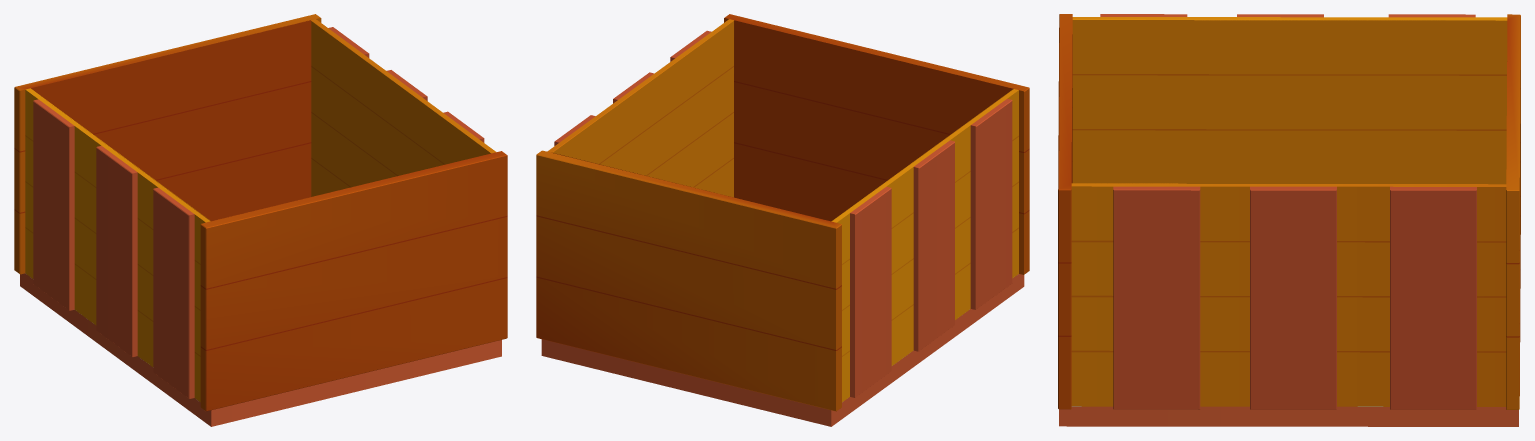
The model's file is Small Wide Crate wo_Lid#2.fbx.
The picture shows the model from 3 angles, left to right: view 1: azimuth 30°, elevation 25°; view 2: azimuth 150°, elevation 25°; view 3: azimuth 270°, elevation 25°; orthographic projection. The views are drawn at different scales.
Visible parts, largest first — view 1: Small Wide Colored Crate #2; view 2: Small Wide Colored Crate #2; view 3: Small Wide Colored Crate #2.
Part boxes in pixels (box(x1,y1,x2,y2)): Small Wide Colored Crate #2: box(14, 14, 507, 426); Small Wide Colored Crate #2: box(536, 14, 1029, 426); Small Wide Colored Crate #2: box(1058, 14, 1520, 426).
Size of the model in its own units: 123 by 215 by 194.
Materials: 1 (1 with a texture image).
